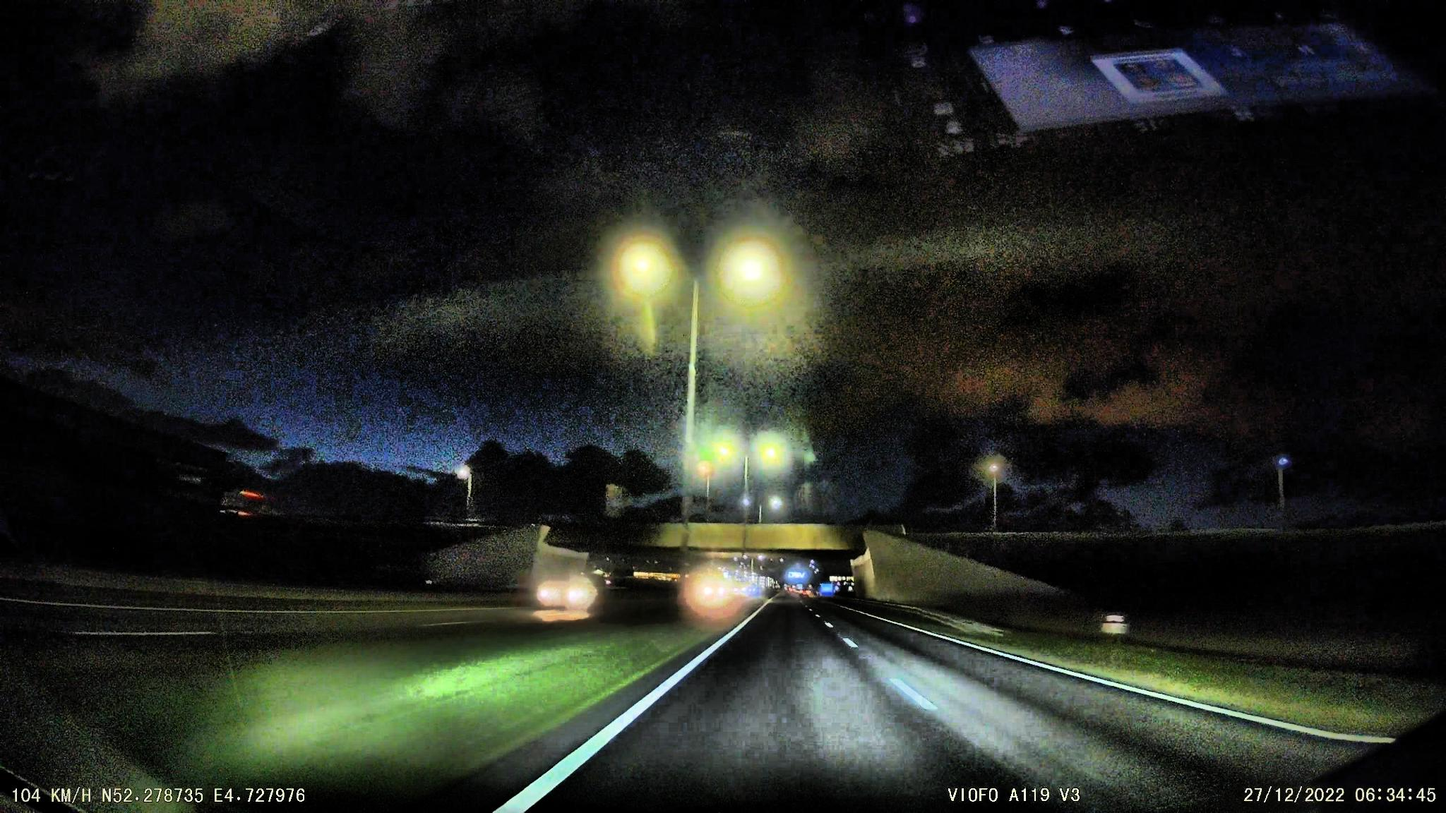Roads: (520, 606, 1411, 813)
